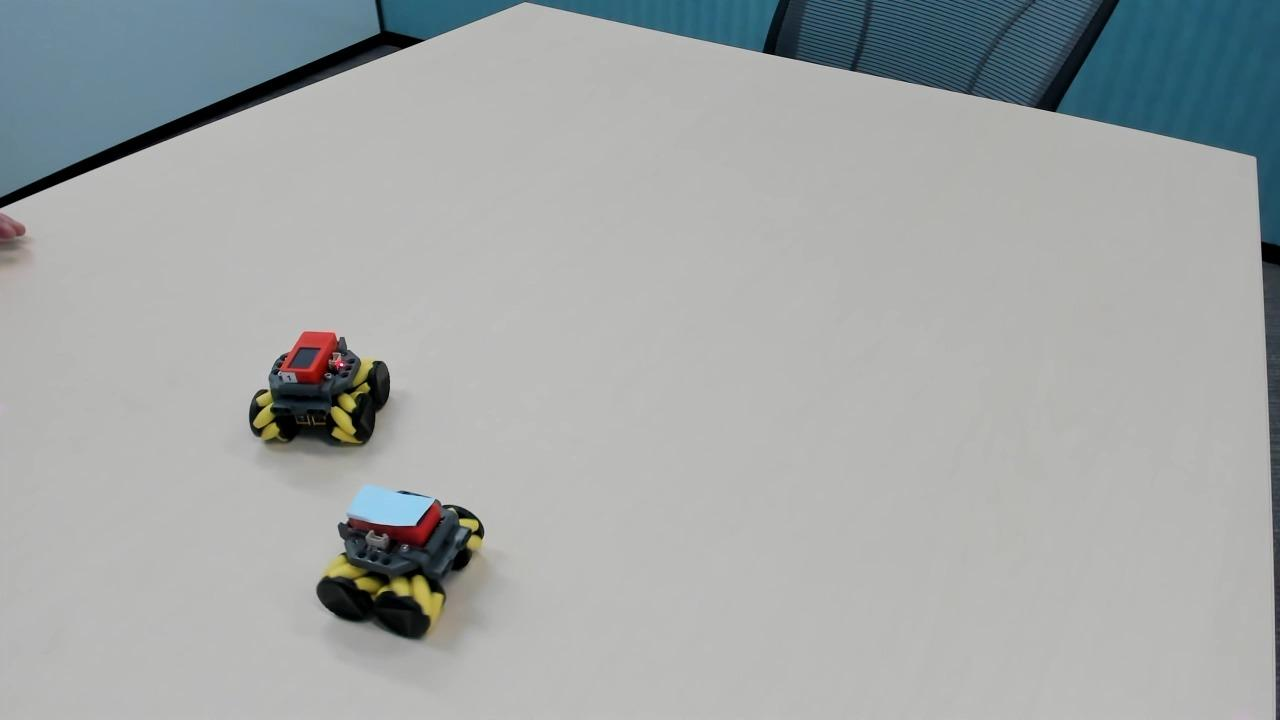B-Robot: (316, 473, 494, 656)
R-Robot: (240, 319, 396, 468)
